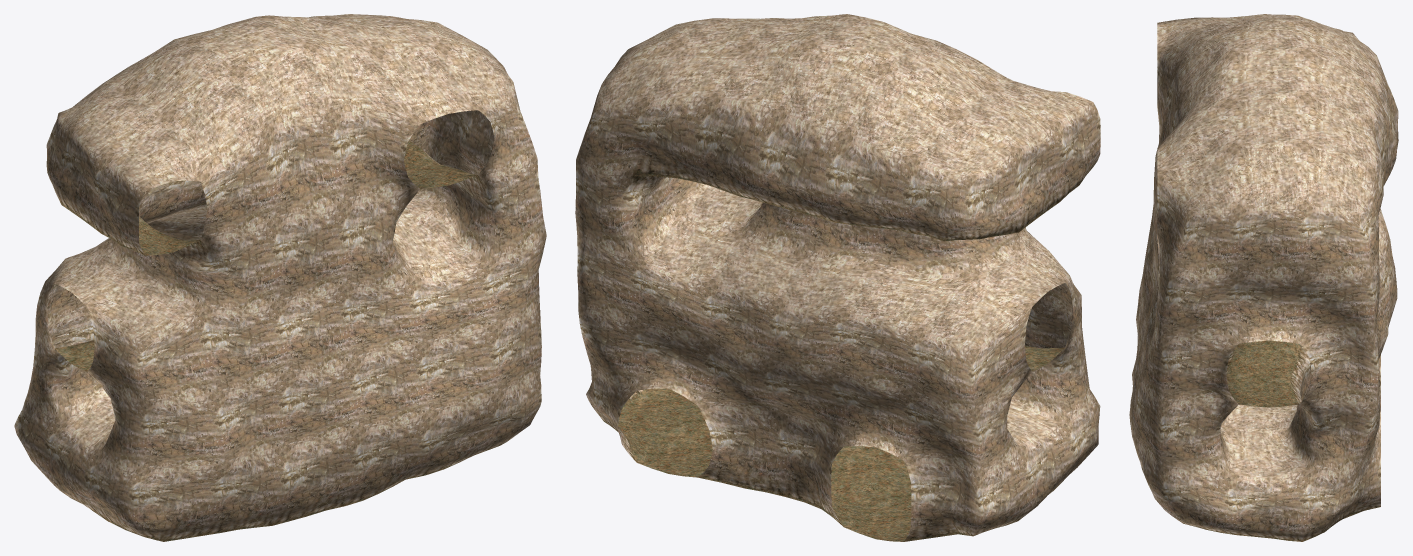
Rendered from thm_all_cave_s03_mirror_r9_mesh_r9.fbx.
3 views of the same model, side by side, from view 1: azimuth 30°, elevation 25°; view 2: azimuth 150°, elevation 25°; view 3: azimuth 270°, elevation 25° (orthographic). The views are drawn at different scales.
Visible parts, largest first — view 1: mesh_node; view 2: mesh_node; view 3: mesh_node.
Boxes of the visible parts, x1,y1,x2,y2 form: mesh_node: [14, 14, 546, 541]; mesh_node: [575, 14, 1100, 541]; mesh_node: [1129, 14, 1398, 541].
Bounding box in the file's own units: 50.64 × 50.06 × 28.87.
